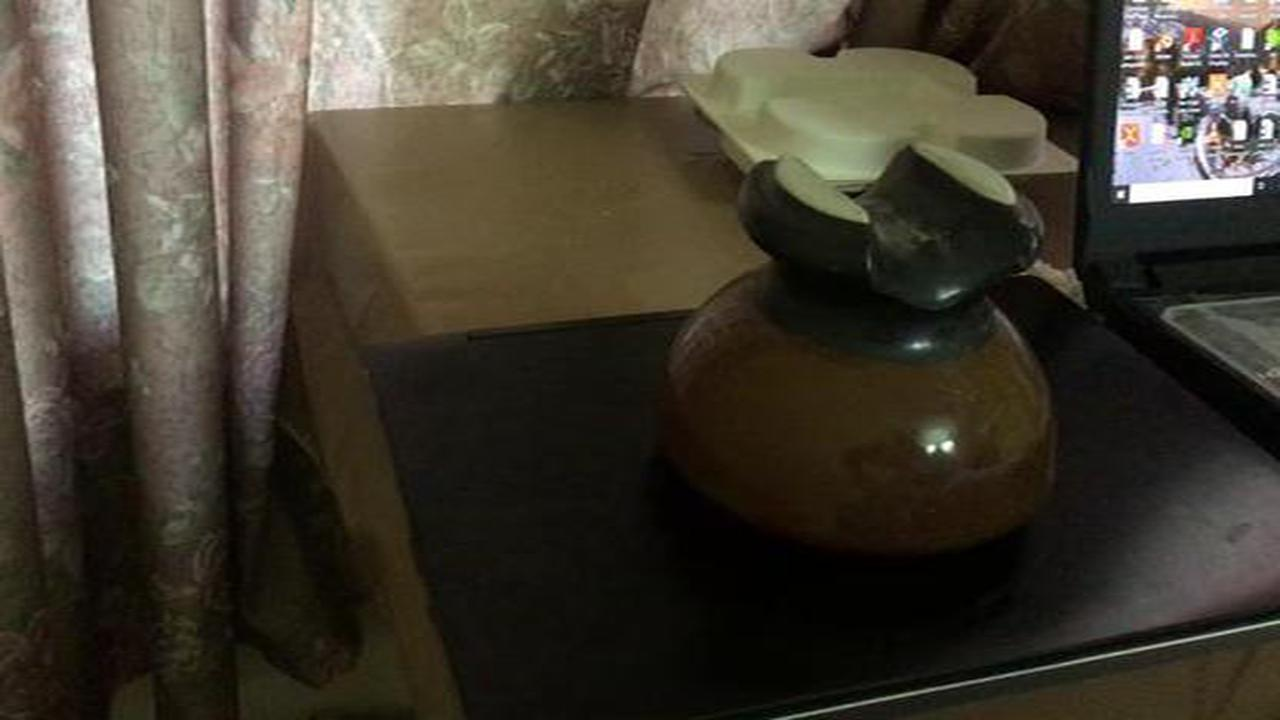insulator_pin: (628, 127, 1087, 580)
